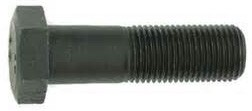screw: (9, 6, 246, 104)
